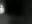person: (1, 4, 6, 16)
